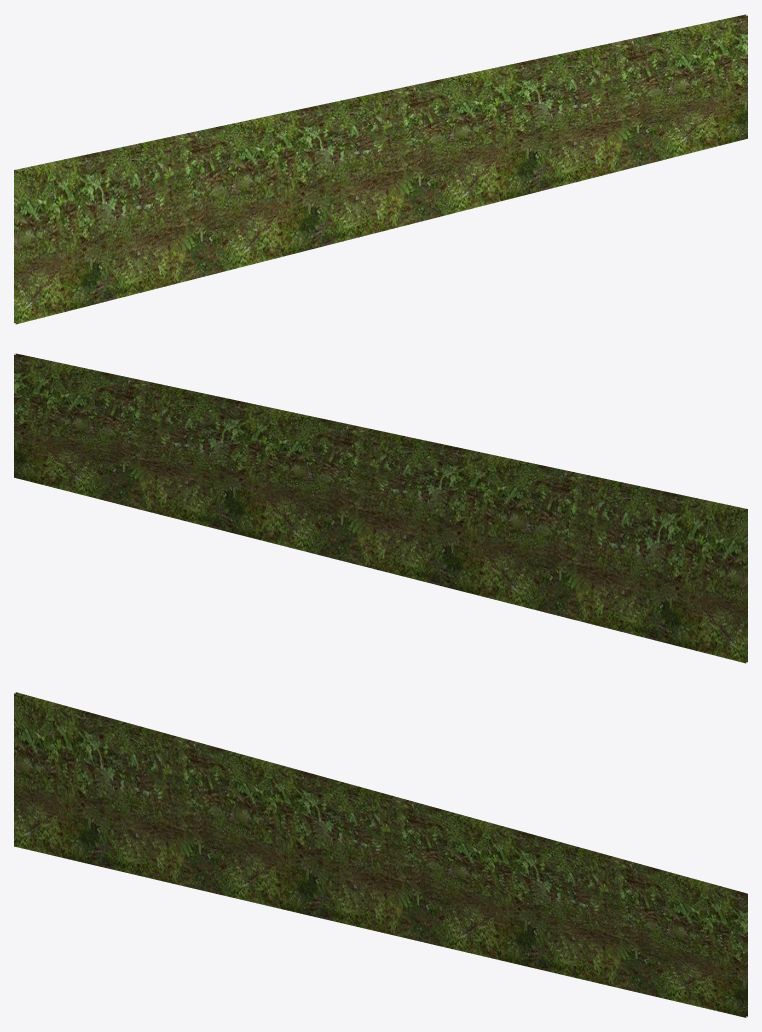
The model's file is ever_endr_mossylog_l3.fbx.
3 views of the same model, one above another, from view 1: azimuth 30°, elevation 25°; view 2: azimuth 150°, elevation 25°; view 3: azimuth 330°, elevation 25° (orthographic).
Visible parts, largest first — view 1: mesh_node; view 2: mesh_node; view 3: mesh_node.
Part boxes in pixels (left/top/right/bottom): mesh_node: left=14, top=14, right=747, bottom=324; mesh_node: left=14, top=353, right=747, bottom=663; mesh_node: left=14, top=692, right=747, bottom=1017.
Bounding box in the file's own units: 5.58 × 1.12 × 0.0221.
1 material, 1 textured.
